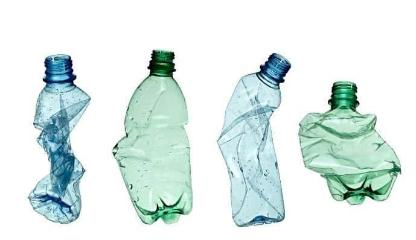Plastic Bottle: (112, 46, 197, 229), (214, 51, 296, 230), (296, 81, 404, 206), (25, 53, 92, 228)
